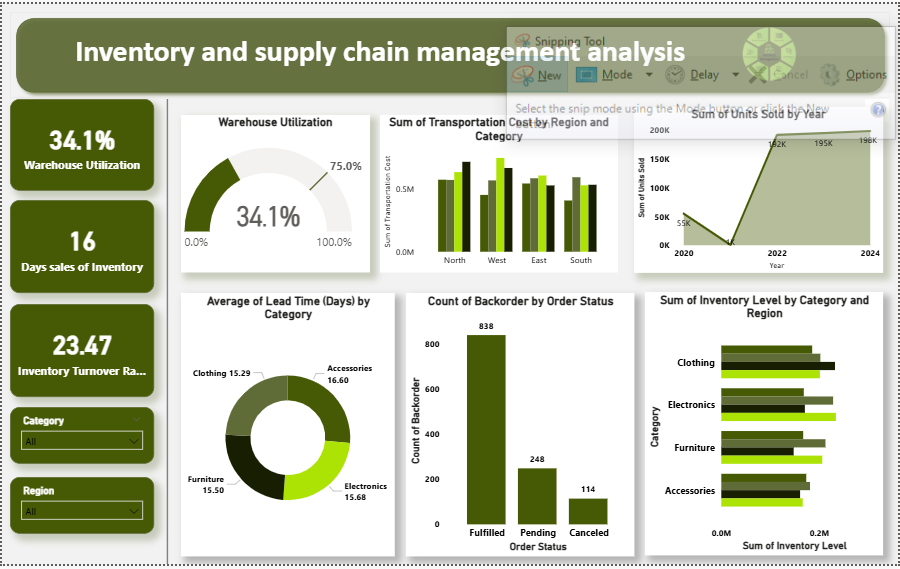

Layout of this report page (visuals, bound fields, positions):
{"tool":"powerbi","page":{"name":"Page 1","canvas":[1280,800],"ordinal":0},"visuals":[{"type":"shape","box":[10.7,10.7,1258.6,124],"z":0},{"type":"textbox","box":[35.2,35.2,1009,75],"z":1000},{"type":"image","box":[999.8,21.4,192.9,99.5],"z":2000},{"type":"shape","box":[217.3,135.8,38.4,664.8],"z":3000},{"type":"card","fields":{"Values":["Inventory_SupplyChain_Dataset.Warehouse Utilization"]},"box":[11.2,135.8,206.1,131],"z":4000},{"type":"card","fields":{"Values":["Inventory_SupplyChain_Dataset.Days sales of Inventory"]},"box":[11.2,279.7,206.1,132.6],"z":5000},{"type":"card","fields":{"Values":["Inventory_SupplyChain_Dataset.Inventory Turnover Ratio"]},"box":[11.2,428.3,206.1,132.6],"z":6000},{"type":"slicer","fields":{"Values":["Inventory_SupplyChain_Dataset.Category"]},"box":[11.2,575.3,206.1,81.5],"z":7000},{"type":"slicer","fields":{"Values":["Inventory_SupplyChain_Dataset.Region"]},"box":[11.2,676,206.1,81.5],"z":8000},{"type":"gauge","fields":{"Y":["Inventory_SupplyChain_Dataset.Warehouse Utilization"]},"box":[255.7,158.2,270.1,225.3],"z":9000},{"type":"clusteredColumnChart","fields":{"Y":["Sum(Inventory_SupplyChain_Dataset.Transportation Cost)"],"Category":["Inventory_SupplyChain_Dataset.Region"],"Series":["Inventory_SupplyChain_Dataset.Category"]},"box":[540.1,158.2,340.4,225.3],"z":10000},{"type":"areaChart","fields":{"Category":["Inventory_SupplyChain_Dataset.Date.Variation.Date Hierarchy.Year"],"Y":["Sum(Inventory_SupplyChain_Dataset.Units Sold)"]},"box":[902.9,147,356.4,236.5],"z":11000},{"type":"donutChart","fields":{"Y":["Avg(Inventory_SupplyChain_Dataset.Lead Time (Days))"],"Category":["Inventory_SupplyChain_Dataset.Category"]},"box":[255.7,412.3,305.2,375.5],"z":12000},{"type":"columnChart","fields":{"Category":["Inventory_SupplyChain_Dataset.Order Status"],"Y":["CountNonNull(Inventory_SupplyChain_Dataset.Backorder)"]},"box":[576.9,412.3,326,375.5],"z":13000},{"type":"clusteredBarChart","fields":{"Y":["Sum(Inventory_SupplyChain_Dataset.Inventory Level)"],"Category":["Inventory_SupplyChain_Dataset.Category"],"Series":["Inventory_SupplyChain_Dataset.Region"]},"box":[919,412,340,376],"z":13001}]}

Visuals, with their boxes on the page's 1280x800 design canvas (x1, y1, x2, y2). These are canvas units, not pixel positions in the 900x569 screenshot, which may show the page scaled, cropped or inside an application window:
shape: box=[11, 11, 1269, 135]
textbox: box=[35, 35, 1044, 110]
image: box=[1000, 21, 1193, 121]
shape: box=[217, 136, 256, 801]
card - Inventory_SupplyChain_Dataset.Warehouse Utilization: box=[11, 136, 217, 267]
card - Inventory_SupplyChain_Dataset.Days sales of Inventory: box=[11, 280, 217, 412]
card - Inventory_SupplyChain_Dataset.Inventory Turnover Ratio: box=[11, 428, 217, 561]
slicer - Inventory_SupplyChain_Dataset.Category: box=[11, 575, 217, 657]
slicer - Inventory_SupplyChain_Dataset.Region: box=[11, 676, 217, 758]
gauge - Inventory_SupplyChain_Dataset.Warehouse Utilization: box=[256, 158, 526, 384]
clusteredColumnChart - Sum(Inventory_SupplyChain_Dataset.Transportation Cost) x Inventory_SupplyChain_Dataset.Region: box=[540, 158, 880, 384]
areaChart - Inventory_SupplyChain_Dataset.Date.Variation.Date Hierarchy.Year x Sum(Inventory_SupplyChain_Dataset.Units Sold): box=[903, 147, 1259, 384]
donutChart - Avg(Inventory_SupplyChain_Dataset.Lead Time (Days)) x Inventory_SupplyChain_Dataset.Category: box=[256, 412, 561, 788]
columnChart - Inventory_SupplyChain_Dataset.Order Status x CountNonNull(Inventory_SupplyChain_Dataset.Backorder): box=[577, 412, 903, 788]
clusteredBarChart - Sum(Inventory_SupplyChain_Dataset.Inventory Level) x Inventory_SupplyChain_Dataset.Category: box=[919, 412, 1259, 788]
